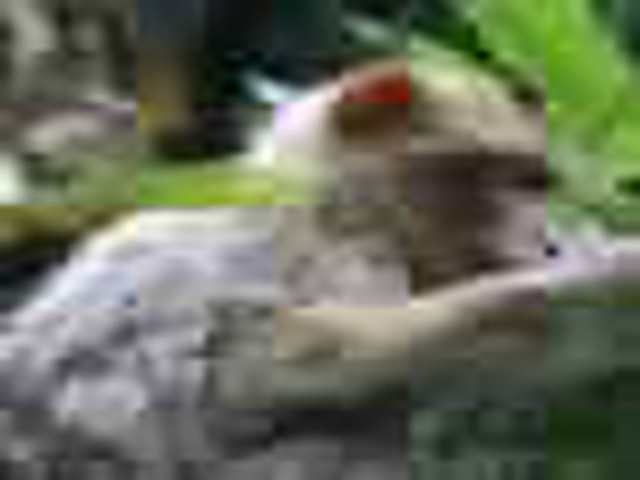Monkey: (254, 53, 563, 374)
